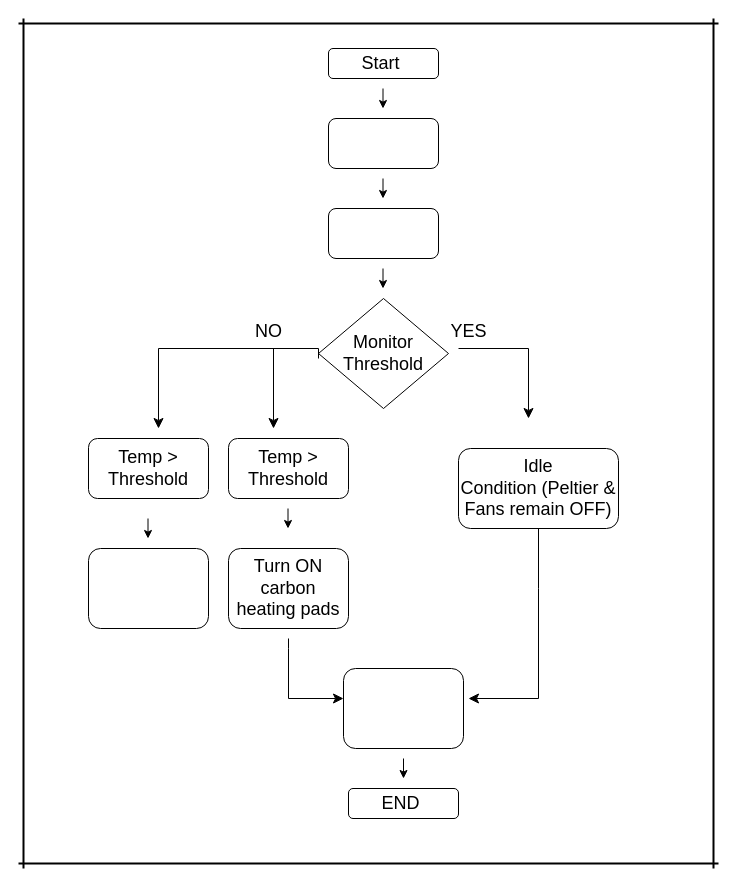
Some shapes in this 736 by 886 pixel diagram are drawn without their labels. Each missing label, with the centre of its shape:
"Keep Monitoring Temperature" goes at [403,708].
"Power ON System" goes at [383,143].
"Read Temperature" goes at [383,233].
"Turn ON Peltier and Fans" goes at [148,588].
